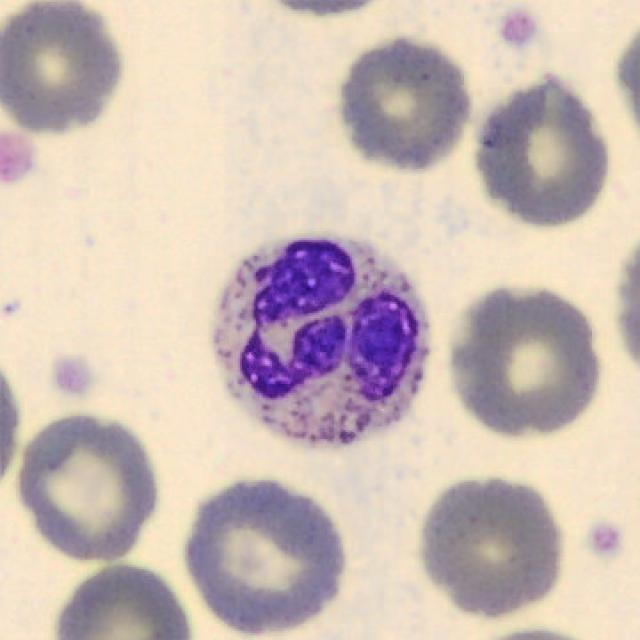Neutrofilo segmentado: (212, 235, 430, 448)
